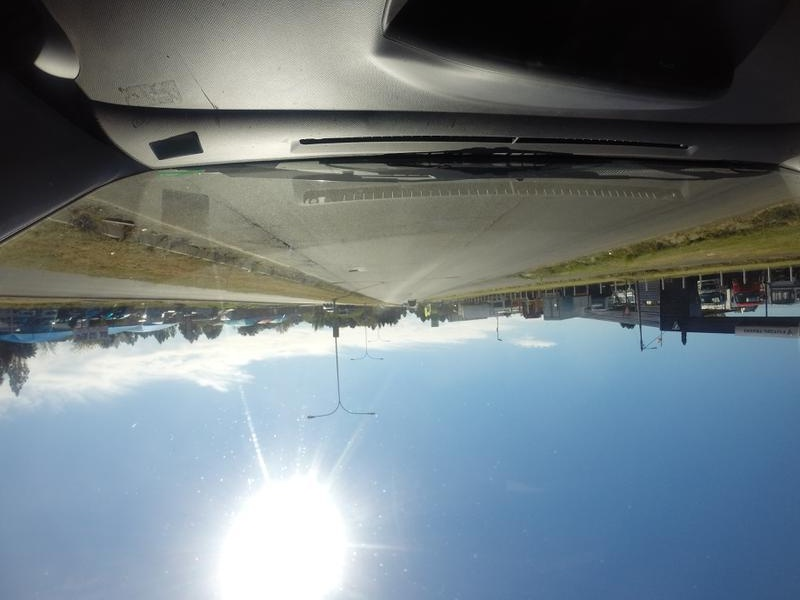pothole: (341, 268, 358, 276)
